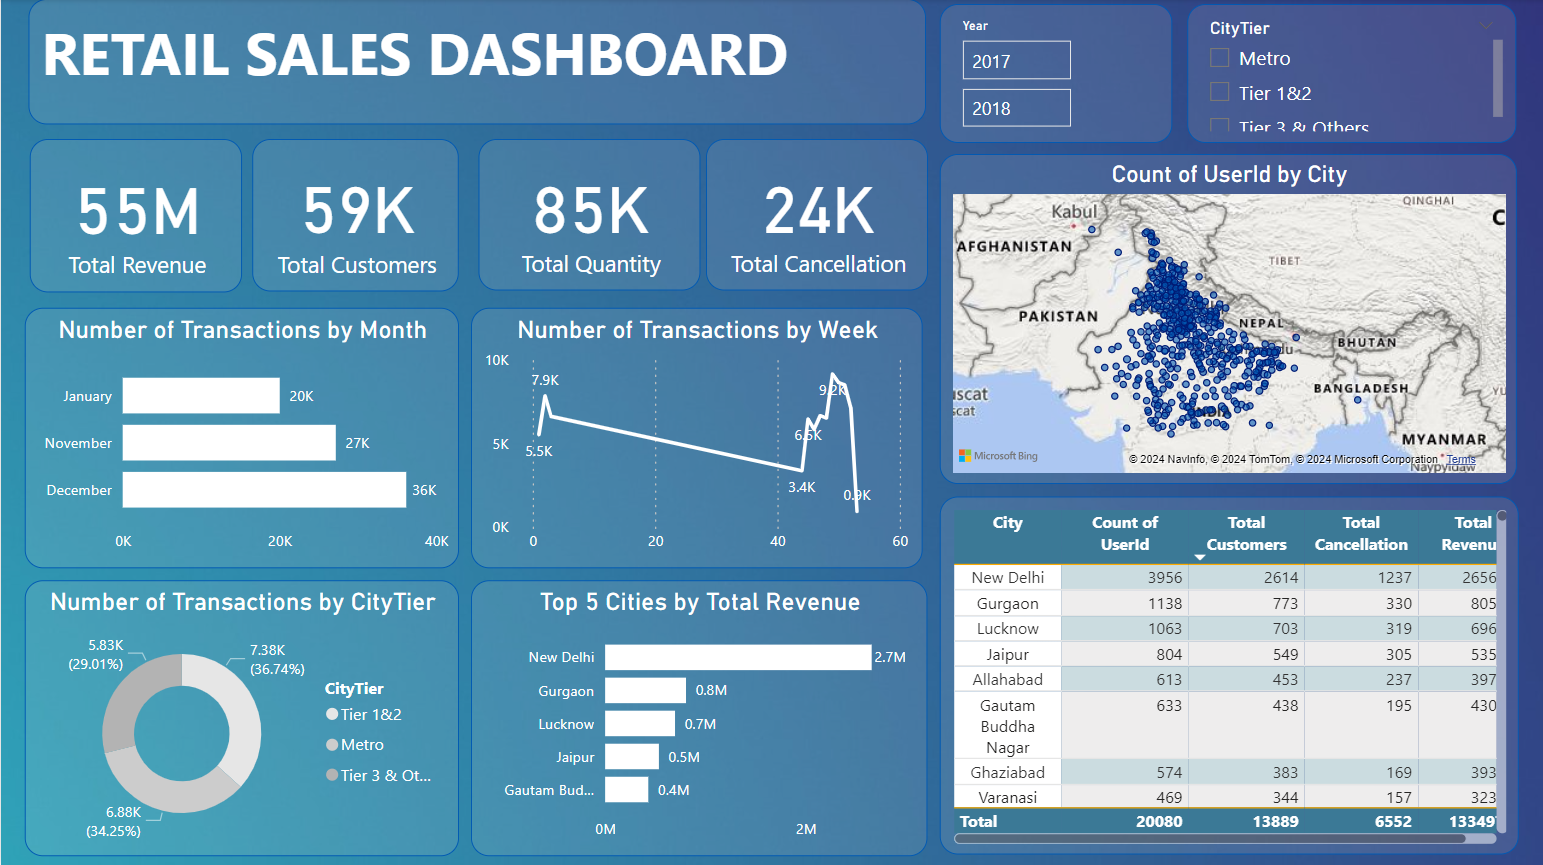

Layout of this report page (visuals, bound fields, positions):
{"tool":"powerbi","page":{"name":"Page 1","canvas":[1280,720],"ordinal":0},"visuals":[{"type":"card","fields":{"Values":["Sales.Total Revenue"]},"box":[24.3,115.7,175.7,127.1],"z":0},{"type":"card","fields":{"Values":["Sales.Total Customers"]},"box":[208.8,116.2,171.2,126.2],"z":1000},{"type":"card","fields":{"Values":["Sales.Total Cancellation"]},"box":[584.3,115.7,184.3,125.7],"z":2000},{"type":"card","fields":{"Values":["Sum(Sales.Units)"]},"box":[395.7,115.7,184.3,125.7],"z":3000},{"type":"barChart","fields":{"Category":["Sales.OrderDate.Variation.Date Hierarchy.Month"],"Y":["CountNonNull(Sales.UserId)"]},"box":[20,255.7,360,215.7],"z":4000},{"type":"lineChart","fields":{"Category":["Sales.Week"],"Y":["CountNonNull(Sales.UserId)"]},"box":[390,255.7,374.3,215.7],"z":5000},{"type":"slicer","fields":{"Values":["Sales.OrderDate.Variation.Date Hierarchy.Year"]},"box":[778.8,3.8,192.5,115],"z":6000},{"type":"donutChart","fields":{"Category":["City Tier.CityTier"],"Y":["CountNonNull(Sales.UserId)"]},"box":[20,481.4,360,228.6],"z":7000},{"type":"textbox","box":[22.9,0,744.3,104.3],"z":8000},{"type":"barChart","title":"Top 5 Cities by Total Revenue","fields":{"Category":["PinCodegeo.City"],"Y":["Sum(Sales.Revenue)"]},"box":[390,481.4,378.6,228.6],"z":9000},{"type":"slicer","fields":{"Values":["City Tier.CityTier"]},"box":[983.8,3.8,272.5,115],"z":10000},{"type":"map","fields":{"Size":["CountNonNull(Sales.UserId)"],"Category":["City Tier.City"]},"box":[778.8,128.8,478.8,273.8],"z":11000},{"type":"tableEx","fields":{"Values":["PinCodegeo.City","Sales.UserId","Sales.Total Customers","Sales.Total Cancellation","Sales.Total Revenue"]},"box":[778.6,412.9,480,297.1],"z":12000}]}

Visuals, with their boxes in screenshot pixels (x1, y1, x2, y2), scaled from the page's 1280x720 canvas onto the 1543x865 screenshot:
card - Sales.Total Revenue: detection(29, 139, 241, 292)
card - Sales.Total Customers: detection(252, 140, 458, 291)
card - Sales.Total Cancellation: detection(704, 139, 927, 290)
card - Sum(Sales.Units): detection(477, 139, 699, 290)
barChart - Sales.OrderDate.Variation.Date Hierarchy.Month x CountNonNull(Sales.UserId): detection(24, 307, 458, 566)
lineChart - Sales.Week x CountNonNull(Sales.UserId): detection(470, 307, 921, 566)
slicer - Sales.OrderDate.Variation.Date Hierarchy.Year: detection(939, 5, 1171, 143)
donutChart - City Tier.CityTier x CountNonNull(Sales.UserId): detection(24, 578, 458, 853)
textbox: detection(28, 0, 925, 125)
"Top 5 Cities by Total Revenue" barChart: detection(470, 578, 927, 853)
slicer - City Tier.CityTier: detection(1186, 5, 1514, 143)
map - CountNonNull(Sales.UserId) x City Tier.City: detection(939, 155, 1516, 484)
tableEx - PinCodegeo.City x Sales.UserId: detection(939, 496, 1517, 853)
